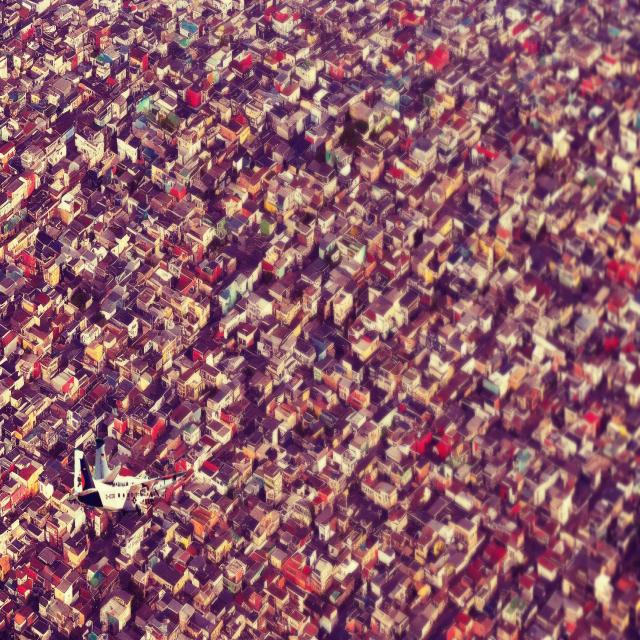airplane: (67, 436, 190, 518)
